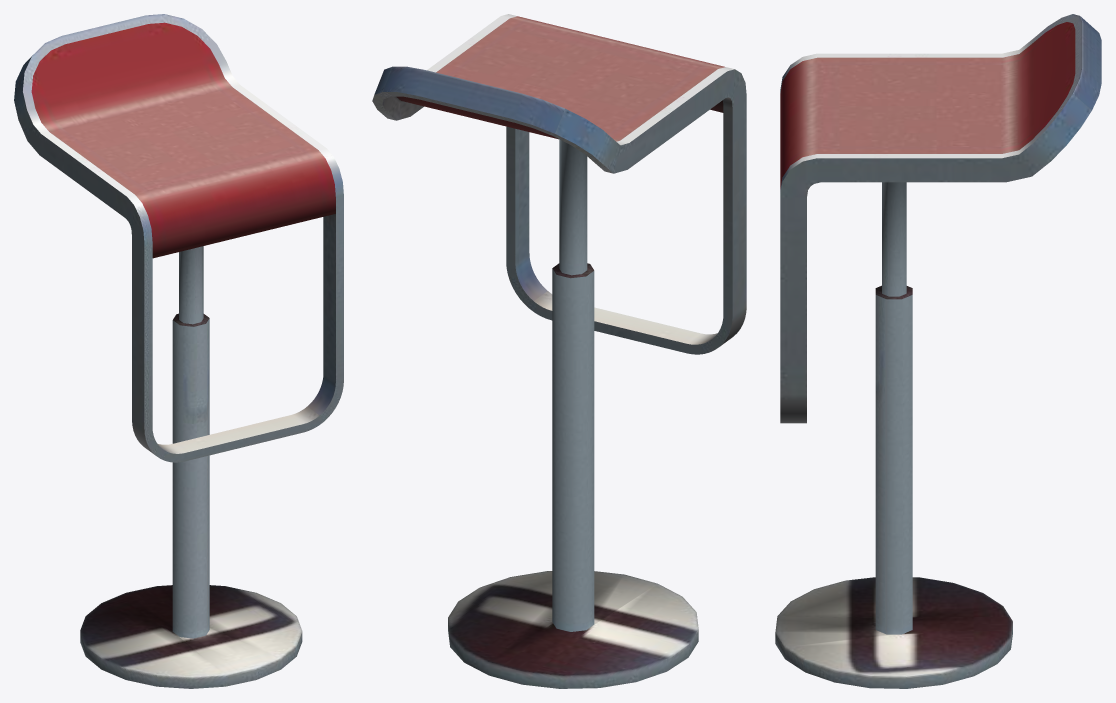
Rendered from Super Low Poly Bar Chair.fbx.
The picture shows the model from 3 angles, left to right: view 1: azimuth 30°, elevation 25°; view 2: azimuth 150°, elevation 25°; view 3: azimuth 270°, elevation 25°; orthographic projection. The views are drawn at different scales.
Parts seen in each view (by area): view 1: Mesh1, Mesh3, Mesh2; view 2: Mesh3, Mesh2, Mesh1; view 3: Mesh3, Mesh1, Mesh2.
Part boxes in pixels (<box>): Mesh1: <box>31,22,335,258</box>; Mesh3: <box>80,246,302,688</box>; Mesh2: <box>14,14,343,462</box>; Mesh3: <box>448,139,698,688</box>; Mesh2: <box>372,14,746,354</box>; Mesh1: <box>396,16,724,141</box>; Mesh3: <box>775,182,1012,688</box>; Mesh1: <box>780,22,1075,188</box>; Mesh2: <box>780,14,1101,423</box>.
Size of the model in its own units: 146 by 385 by 192.
